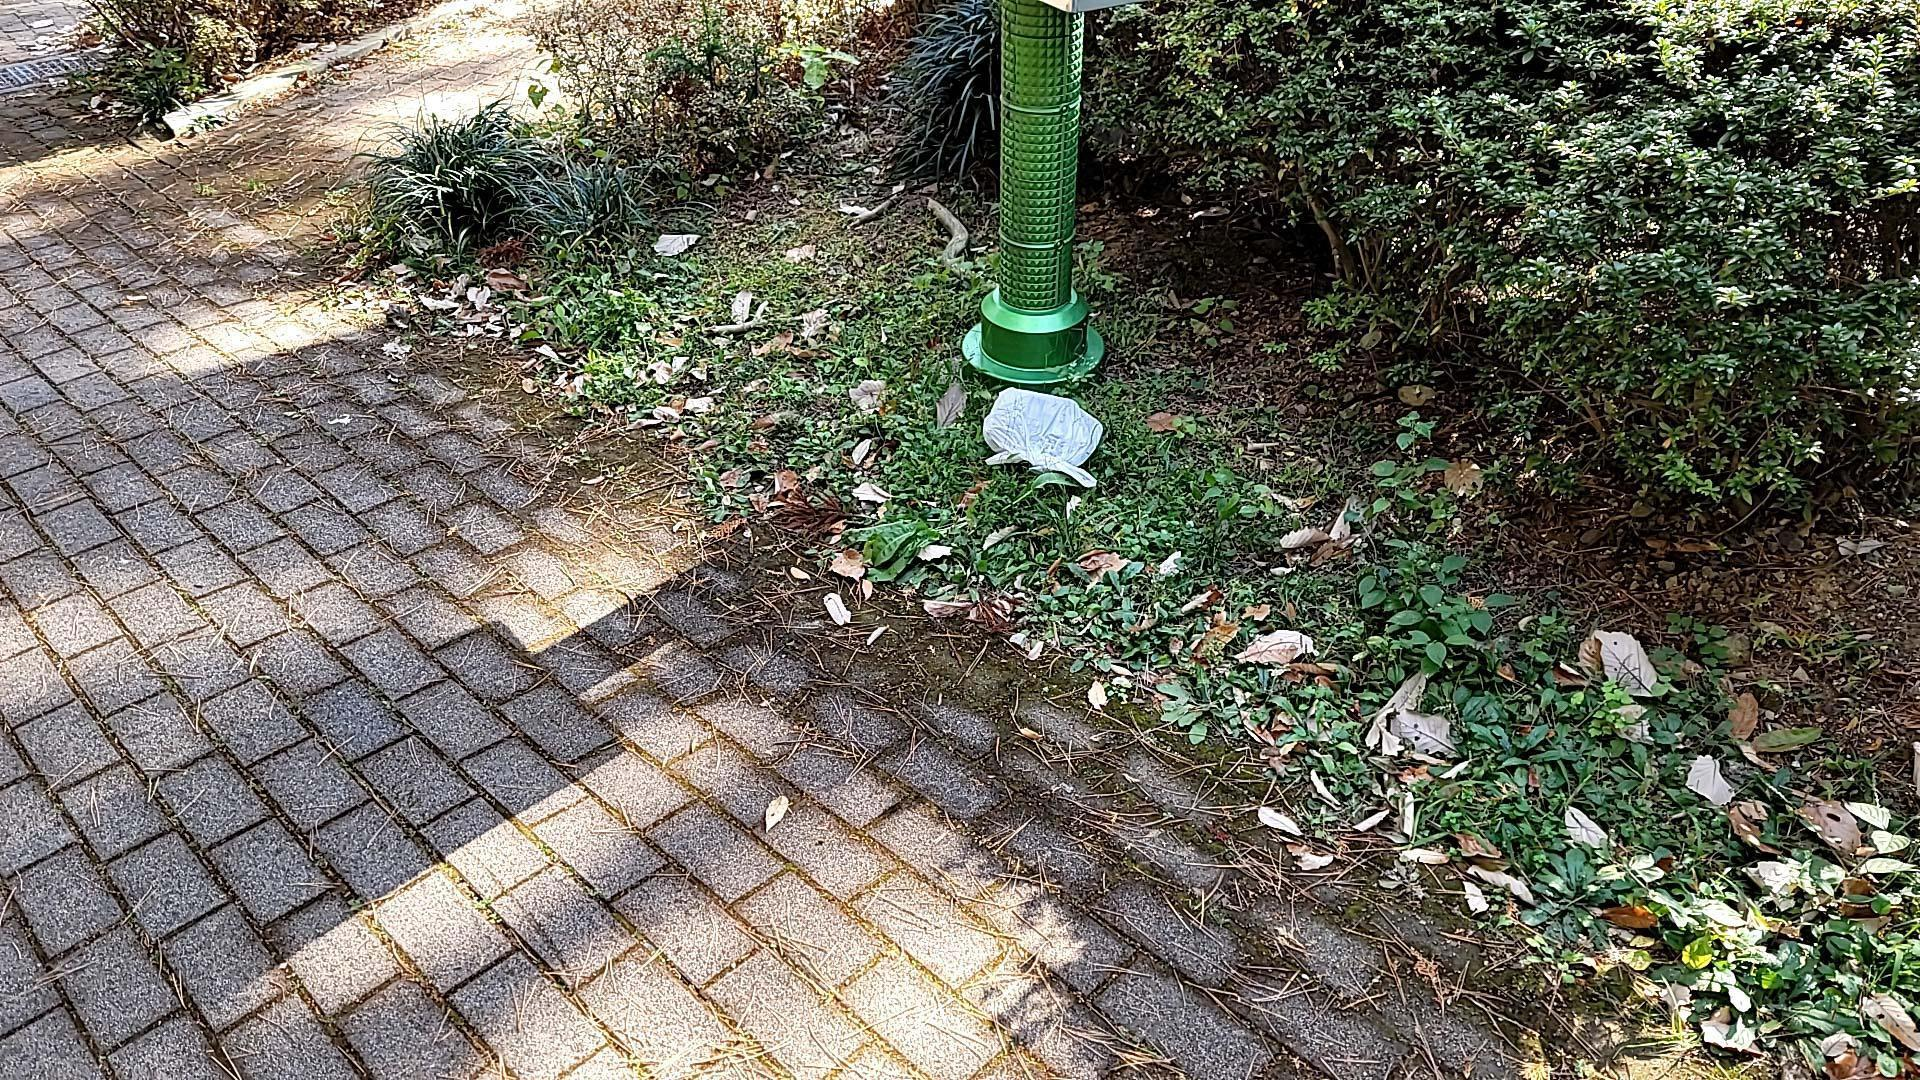white_bag: (971, 382, 1114, 495)
